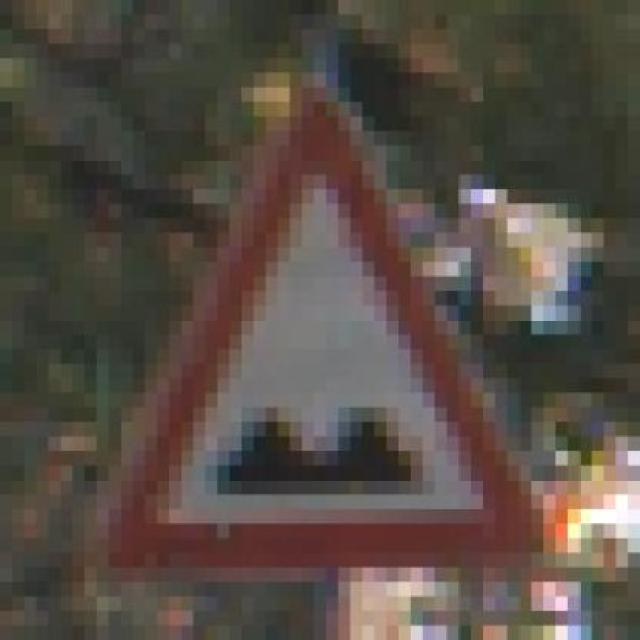Uneven Road: (96, 72, 544, 568)
